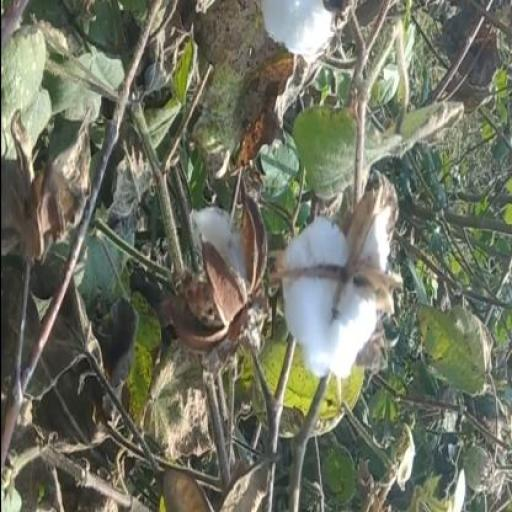cotton_ready: (274, 172, 407, 388), (272, 162, 390, 403)
